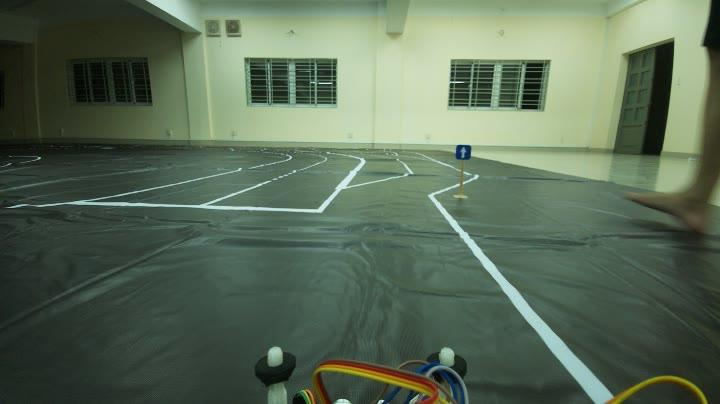onewayroad: (455, 141, 474, 164)
